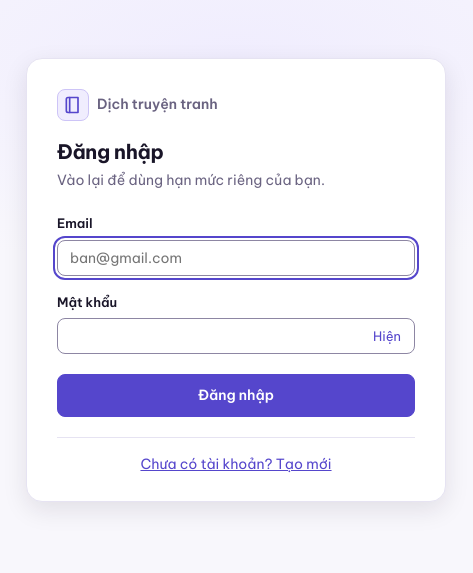
Test case: màn đăng nhập › sai mật khẩu thì NÓI RA, không im lặng nuốt lỗi
In the field labelled "Email": (236, 258) [57,240,415,276], type "a@x.test"
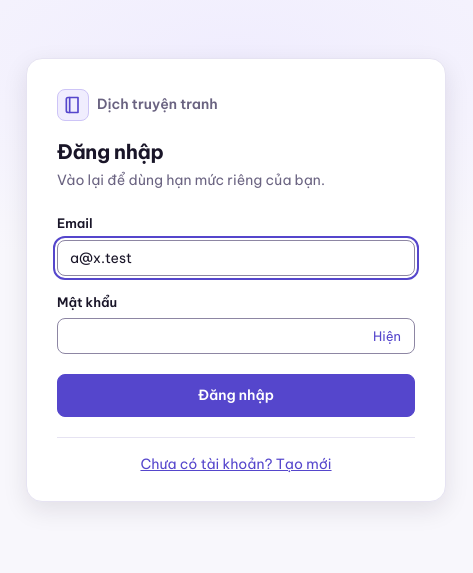
In the password field labelled "Mật khẩu": (236, 336) [57,318,415,354], type "sai-mat-khau"
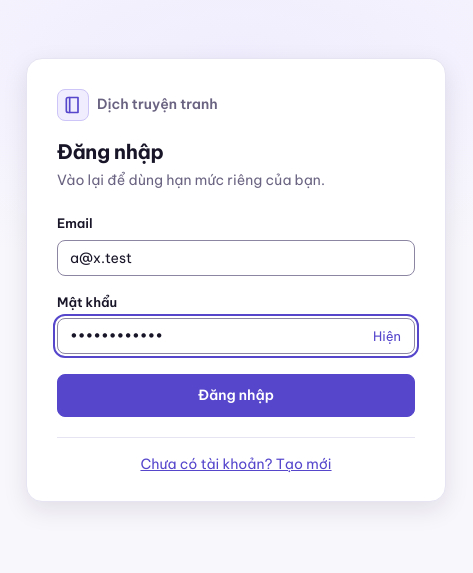
Click the button "Đăng nhập": click(236, 395) [57,374,415,416]
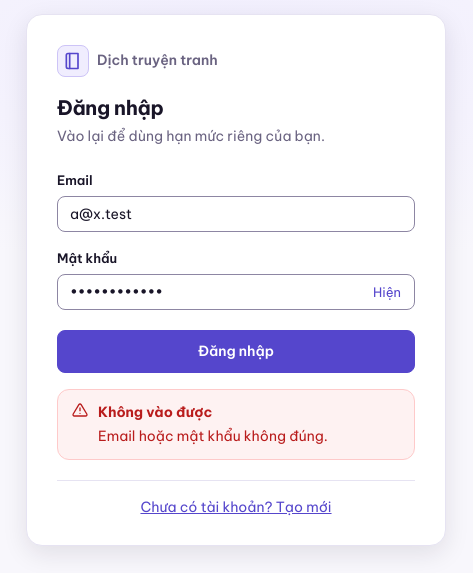
Expected: the text "Email hoặc mật khẩu không đúng." is shown, [98,426,328,444]
